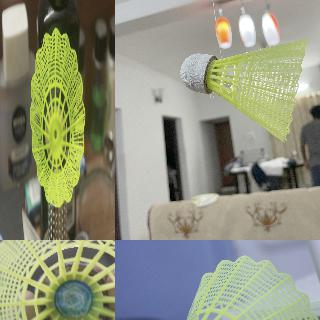shuttlecock: (180, 38, 308, 142), (157, 255, 319, 319), (29, 27, 85, 205), (0, 240, 114, 319)
